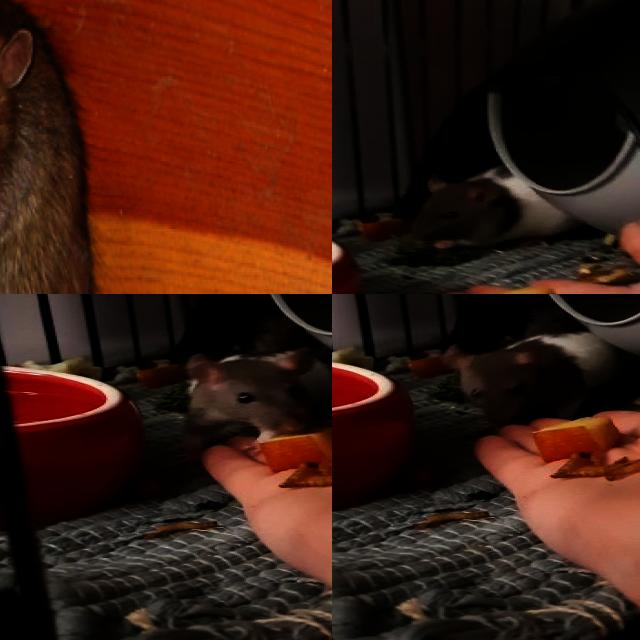rat: (0, 0, 107, 294), (442, 332, 640, 430), (183, 347, 332, 473), (416, 167, 584, 251), (514, 294, 587, 338)
